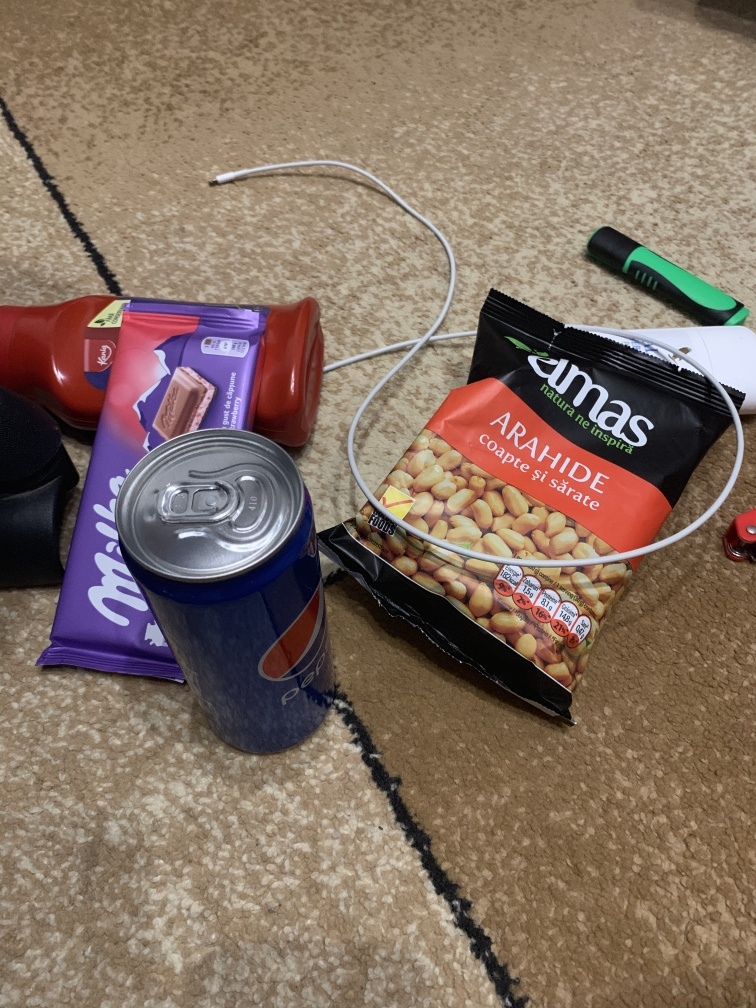ketchup: (1, 289, 329, 445)
milka: (59, 294, 267, 689)
peanuts: (323, 282, 746, 751)
pepsi: (116, 424, 343, 760)
